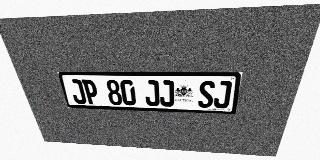0: (119, 80, 136, 106)
8: (105, 80, 123, 105)
J: (213, 81, 232, 108), (68, 79, 87, 104), (144, 80, 160, 106), (159, 80, 174, 107)
P: (81, 79, 100, 104)
S: (198, 81, 215, 108)
